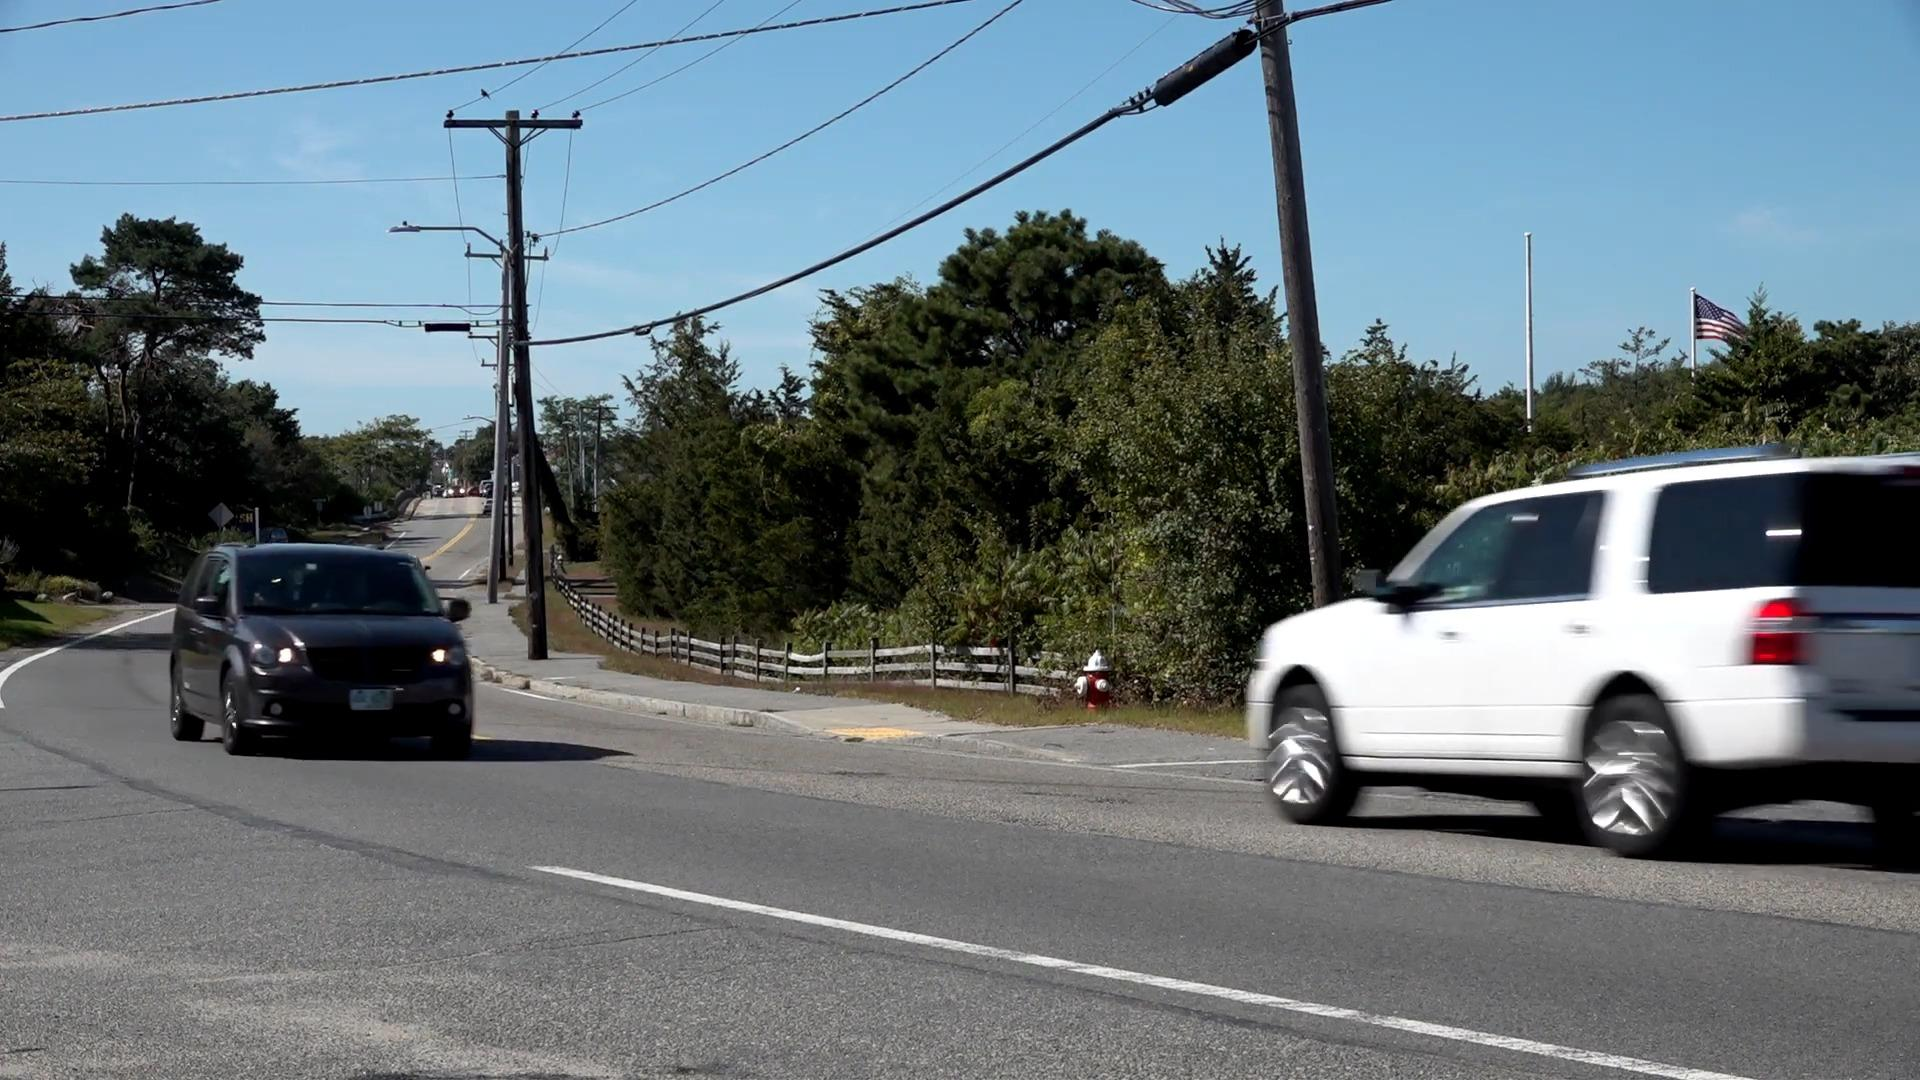suv: (1245, 446, 1920, 860), (169, 545, 479, 758)
